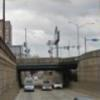cars: (22, 82, 36, 92)
